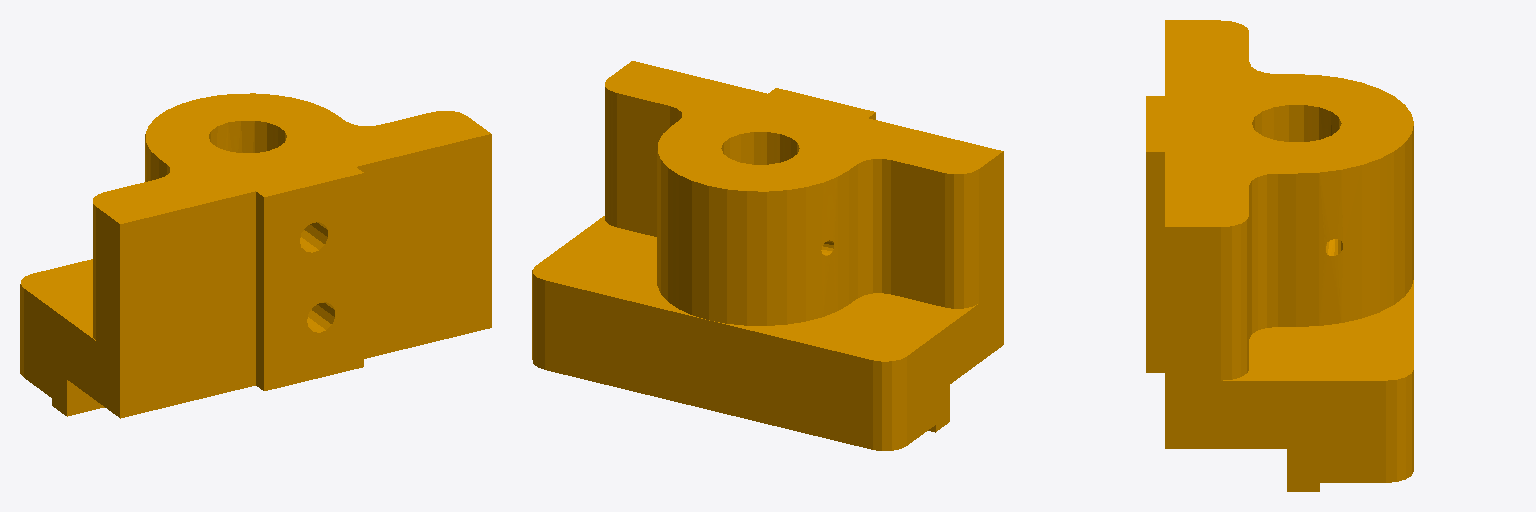
robot.urdf — 01079_socket:
<?xml version="1.0"?>
<robot name="01079_socket">
	<link name="01079_socket">
		<visual>
			<geometry>
				<mesh filename="../mesh/01079/asset_socket.obj"/>
			</geometry>
		</visual>
		<collision>
			<geometry>
				<mesh filename="../mesh/01079/asset_socket.obj"/>
			</geometry>
			<sdf resolution="256"/>
		</collision>
	</link>
</robot>

--- Render facts (derived) ---
The picture shows the robot from 3 angles, left to right: view 1: azimuth 30°, elevation 25°; view 2: azimuth 150°, elevation 25°; view 3: azimuth 270°, elevation 25°; orthographic projection.
Robot: 01079_socket — 1 links, 0 joints (none); root link 01079_socket; default pose: all joints at 0.
Visible links, largest first — view 1: 01079_socket; view 2: 01079_socket; view 3: 01079_socket.
Boxes of the visible links, x1,y1,x2,y2 form: 01079_socket: (20,93,491,418); 01079_socket: (532,61,1003,450); 01079_socket: (1146,20,1413,491).
Size in the robot's own frame: 0.0345 by 0.0189 by 0.0206 metres.
Meshes: 1 distinct files referenced, 1 mesh visuals loaded (1 OBJ).